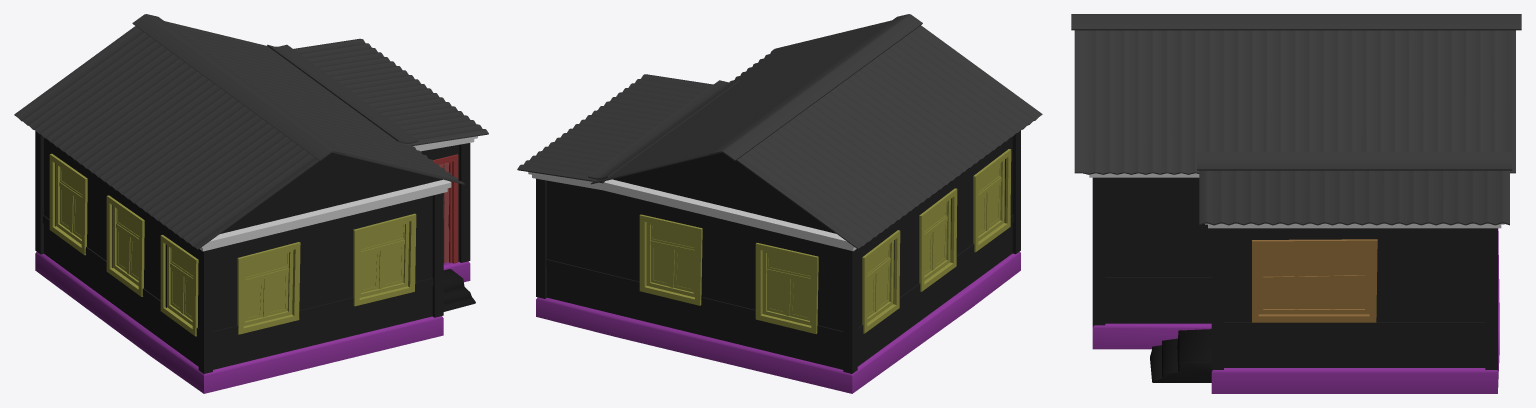
The model's file is Dom.fbx.
The picture shows the model from 3 angles, left to right: view 1: azimuth 30°, elevation 25°; view 2: azimuth 150°, elevation 25°; view 3: azimuth 270°, elevation 25°; orthographic projection. The views are drawn at different scales.
Visible parts, largest first — view 1: Plane001, Box001, Object, Object010, Object009, Shape002, Object013, Object012, Object011, Object003, Box003, Box002; view 2: Plane001, Box001, Object, Object014, Object015, Shape002, Object012, Object013, Object011; view 3: Plane001, Box001, Object007, Object, Box003, Shape002.
Part boxes in pixels (left/top/right/bottom): Plane001: left=14, top=14, right=488, bottom=249; Box001: left=35, top=131, right=470, bottom=373; Object: left=35, top=252, right=470, bottom=393; Object010: left=237, top=242, right=300, bottom=334; Object009: left=353, top=213, right=416, bottom=306; Shape002: left=200, top=136, right=477, bottom=251; Object013: left=49, top=153, right=87, bottom=255; Object012: left=106, top=195, right=144, bottom=296; Object011: left=160, top=235, right=198, bottom=336; Object003: left=433, top=154, right=458, bottom=263; Box003: left=443, top=269, right=475, bottom=311; Box002: left=439, top=163, right=449, bottom=263; Plane001: left=517, top=14, right=1042, bottom=249; Box001: left=536, top=130, right=1020, bottom=373; Object: left=536, top=251, right=1020, bottom=393; Object014: left=755, top=243, right=818, bottom=333; Object015: left=639, top=214, right=702, bottom=305; Shape002: left=528, top=172, right=856, bottom=251; Object012: left=919, top=188, right=957, bottom=291; Object013: left=862, top=230, right=900, bottom=333; Object011: left=973, top=149, right=1011, bottom=252; Plane001: left=1071, top=14, right=1521, bottom=225; Box001: left=1092, top=177, right=1497, bottom=369; Object007: left=1252, top=239, right=1377, bottom=322; Object: left=1092, top=228, right=1499, bottom=393; Box003: left=1150, top=329, right=1211, bottom=382; Shape002: left=1089, top=173, right=1504, bottom=228.
Bounding box in the file's own units: 722 × 442 × 683.
